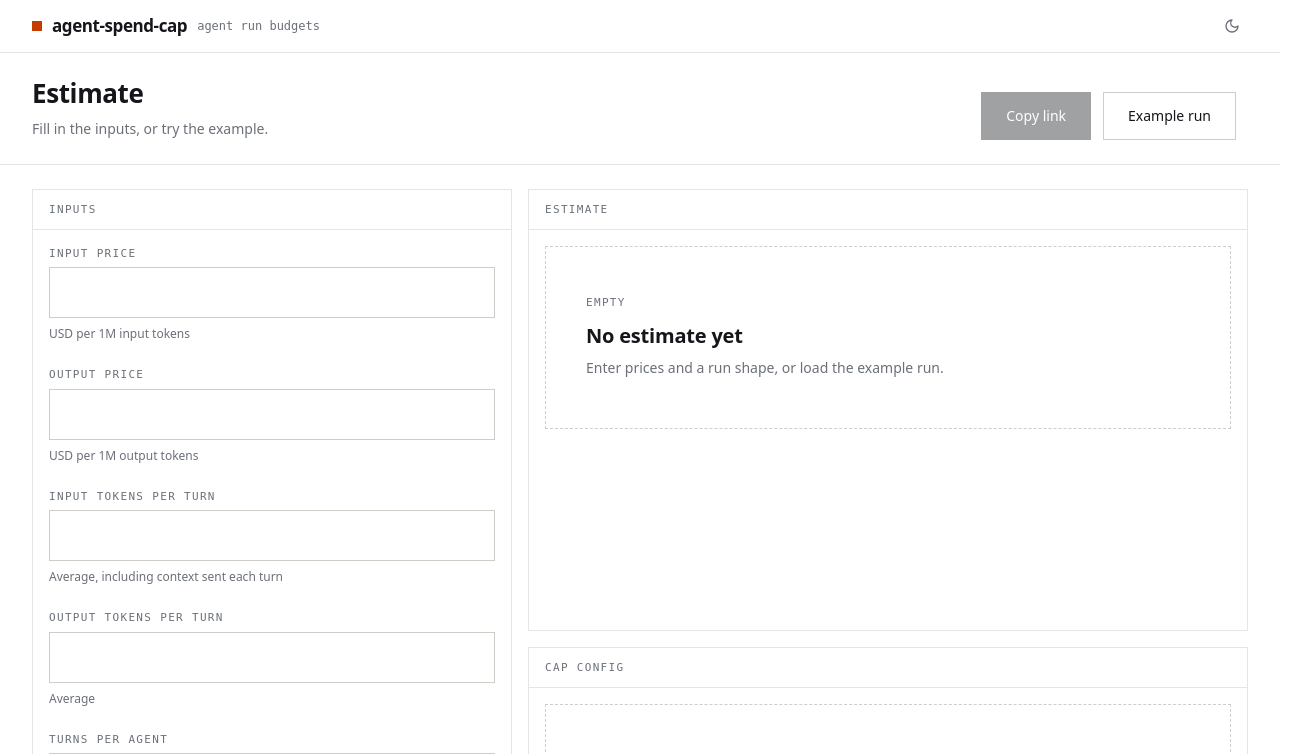
Test: App › CH4: the config follows the tool and the spend cap
Click the button "Example run": [1170, 116] box 1103,92 -> 1236,140
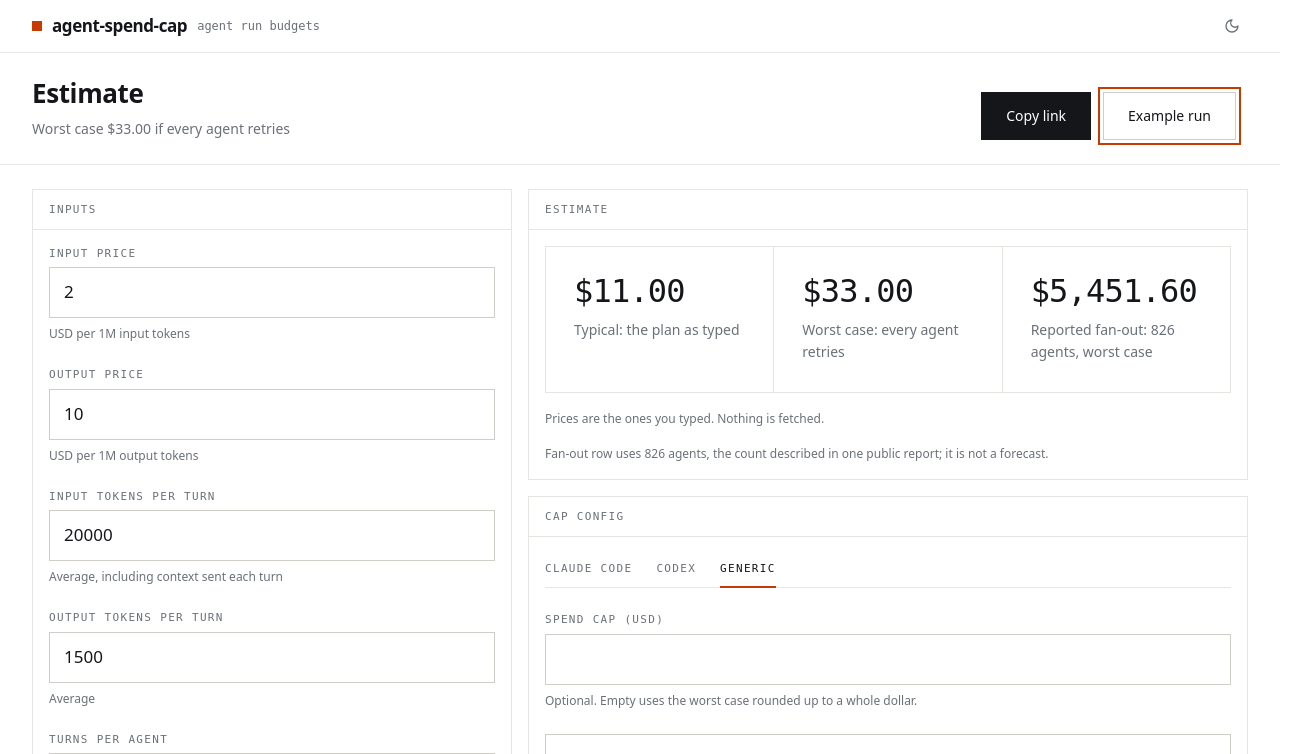
Click the button "claude code": [589, 571] box 545,553 -> 632,588
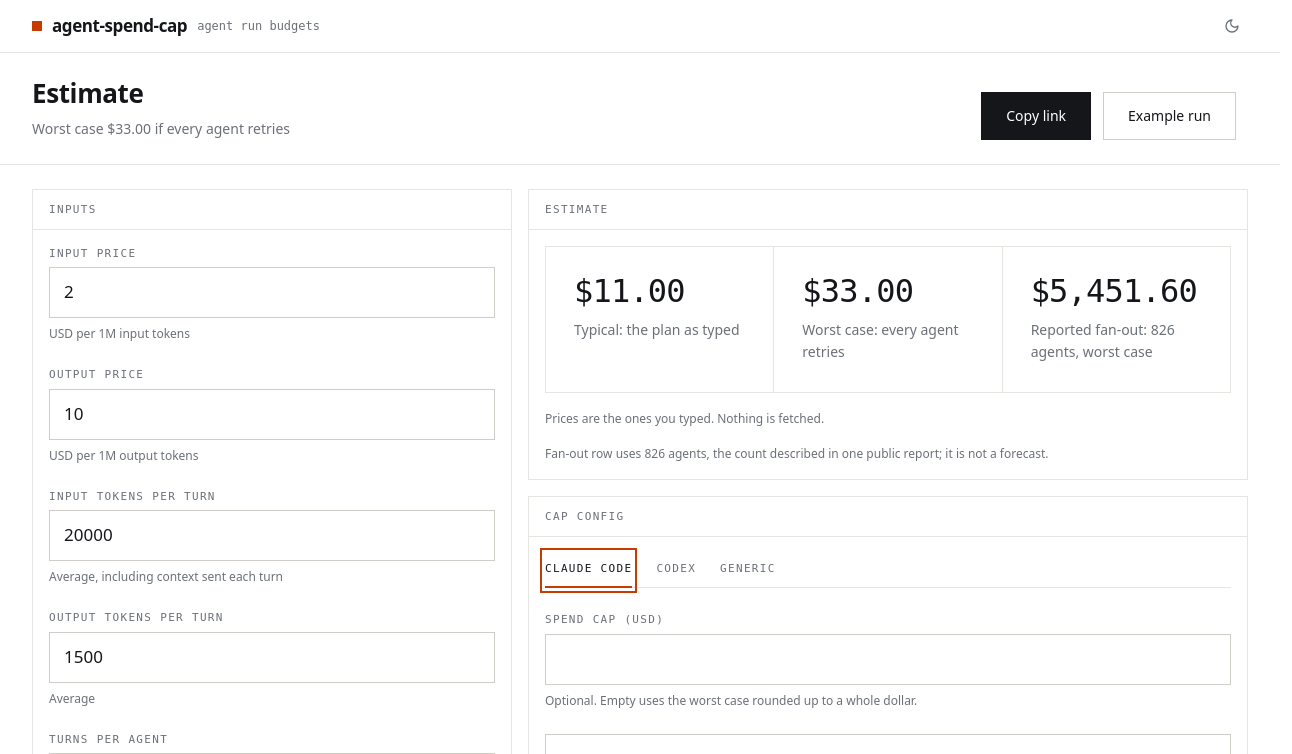
Click the button "codex": [676, 571] box 656,553 -> 696,588
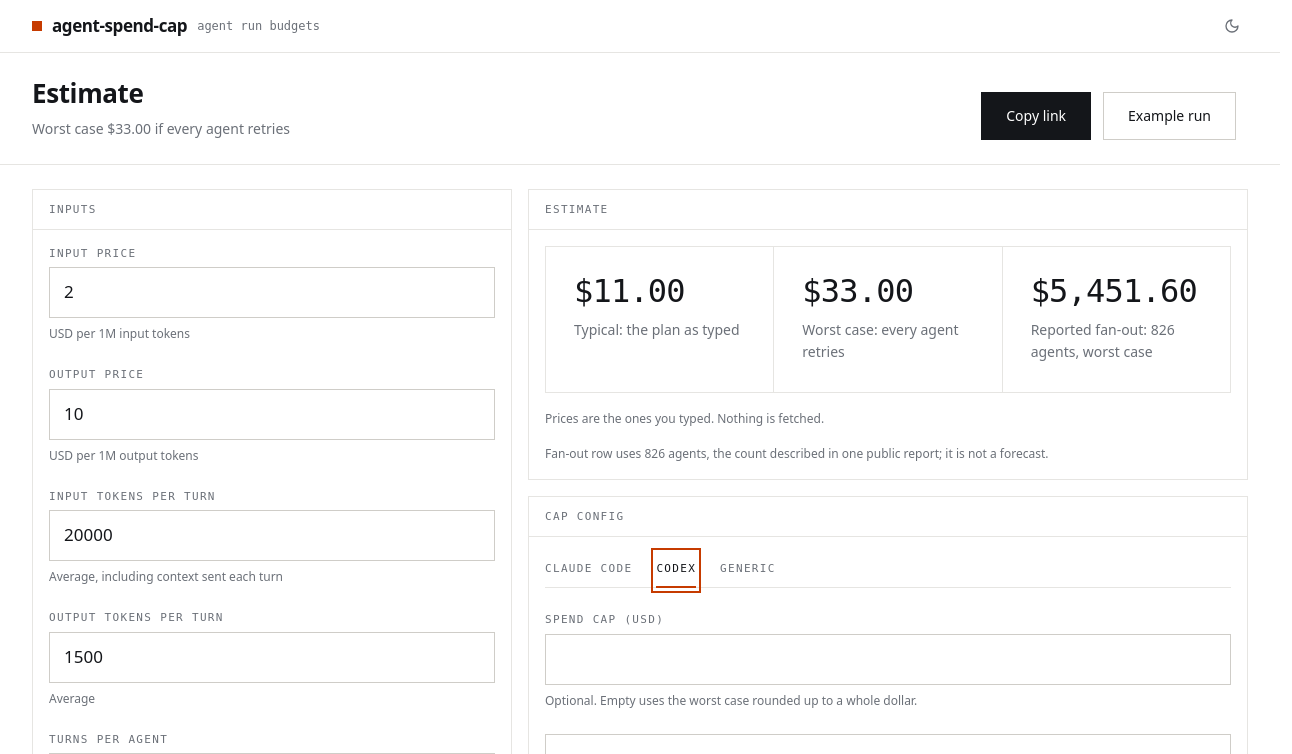
Click the button "generic": [748, 571] box 720,553 -> 776,588
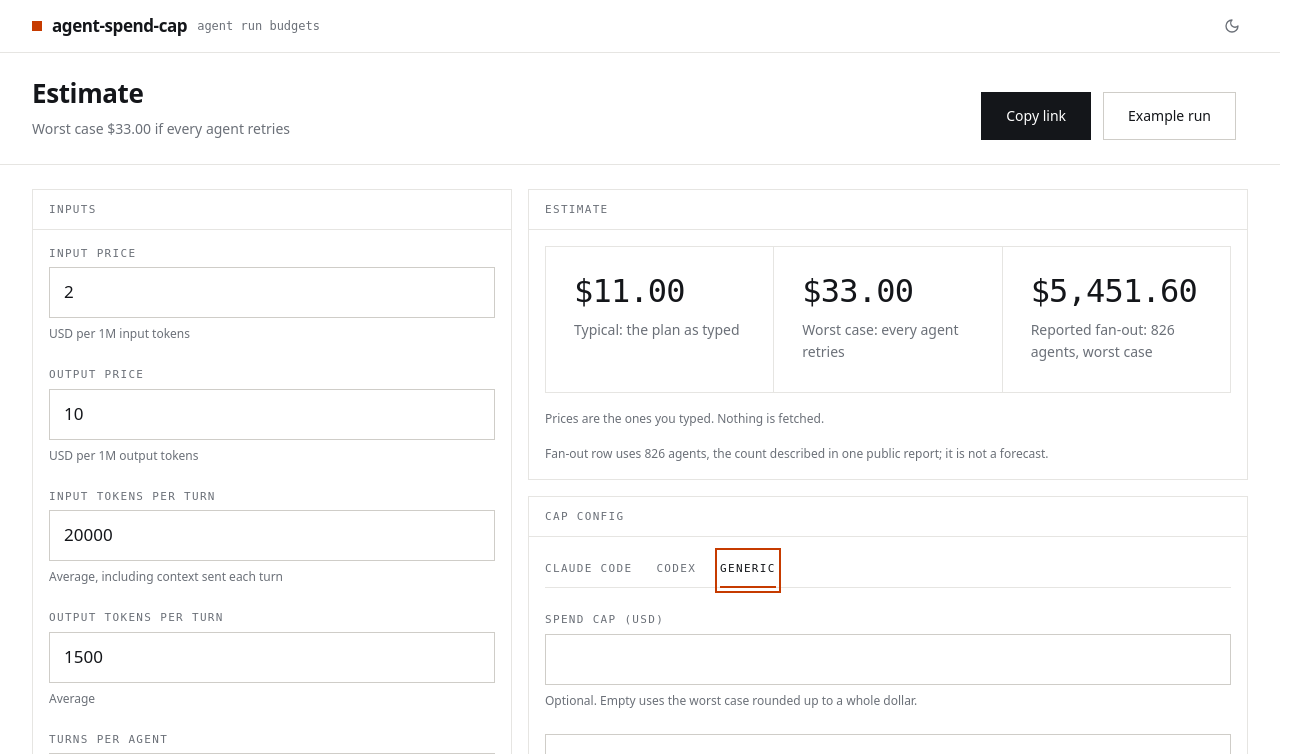
In the field labelled "Spend cap (USD)": [888, 659] box 545,634 -> 1231,685, type "5"
(page scrolled)
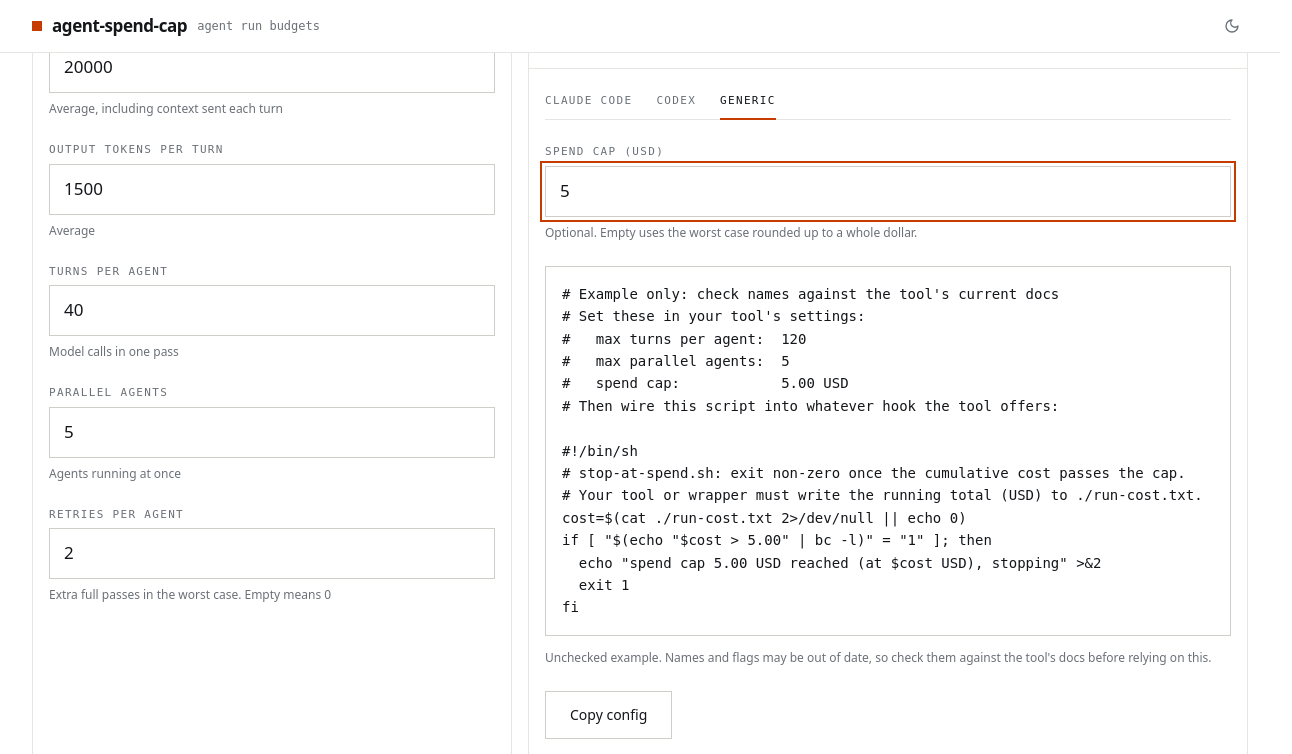
Expected: the text named "Cap config" shows "5.00", 562,286 -> 1203,615
